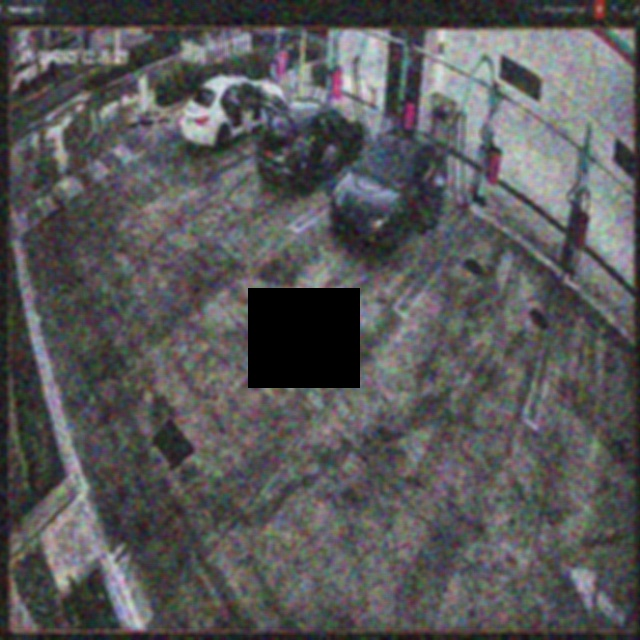Car: (329, 126, 449, 247), (259, 93, 365, 183), (179, 72, 287, 150)
